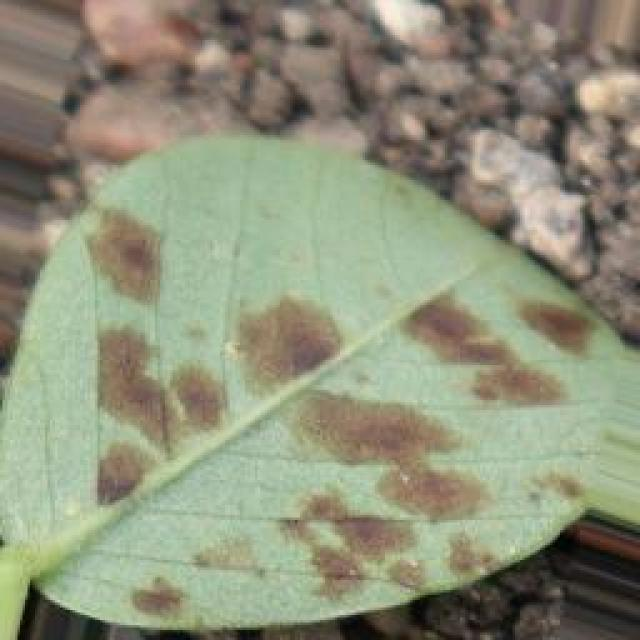Whitefly: (62, 178, 621, 626)
